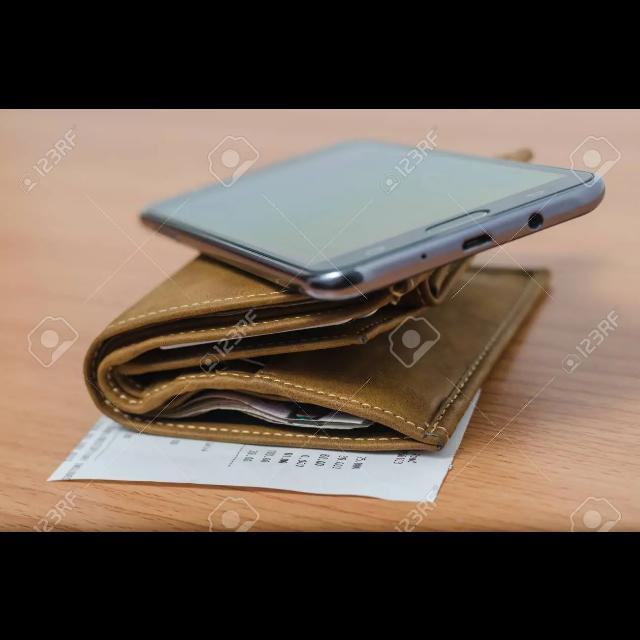wallet: (77, 240, 476, 460)
